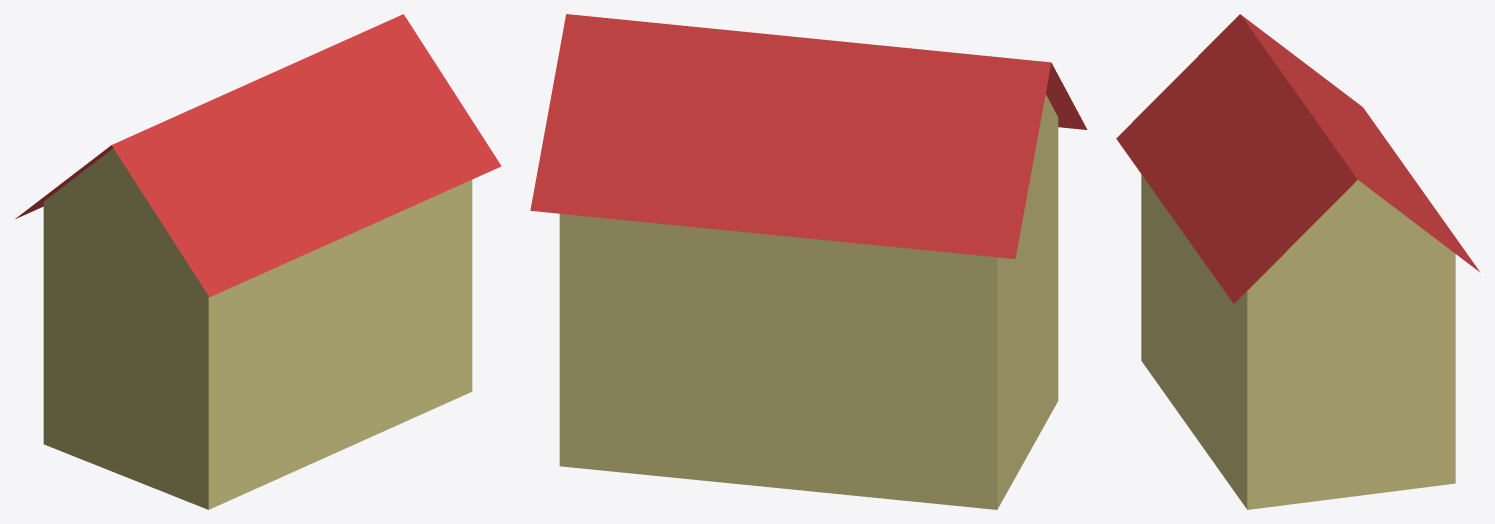
The picture shows the model from 3 angles, left to right: view 1: azimuth 30°, elevation 25°; view 2: azimuth 150°, elevation 25°; view 3: azimuth 270°, elevation 25°; orthographic projection. The views are drawn at different scales.
Bounding box in the file's own units: 17.39 × 13.6 × 13.38.
